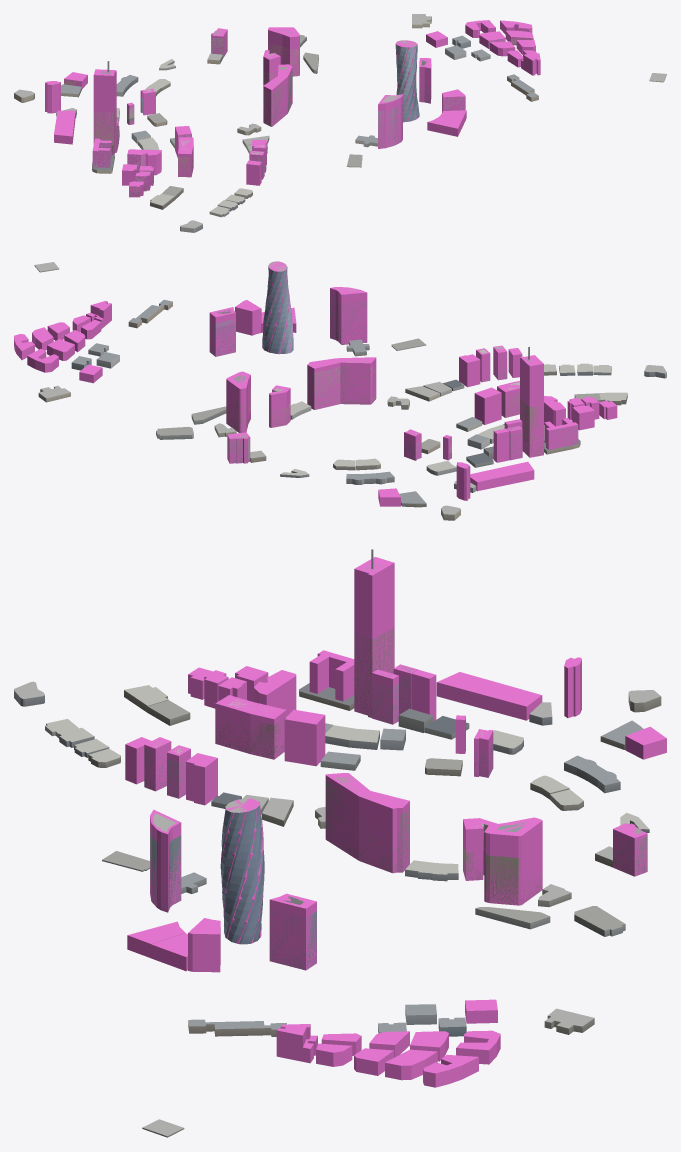
The model's file is bld_13_8.fbx.
3 views of the same model, one above another, from view 1: azimuth 30°, elevation 25°; view 2: azimuth 150°, elevation 25°; view 3: azimuth 270°, elevation 25° (orthographic). The views are drawn at different scales.
Parts seen in each view (by area): view 1: bld_13_8_COL, bld_13_8_LOD0; view 2: bld_13_8_COL, bld_13_8_LOD0; view 3: bld_13_8_COL, bld_13_8_LOD0.
Boxes of the visible parts, bbox=[...] form: bld_13_8_COL: bbox=[45, 20, 540, 197]; bld_13_8_LOD0: bbox=[14, 14, 666, 232]; bld_13_8_COL: bbox=[14, 261, 617, 506]; bld_13_8_LOD0: bbox=[34, 261, 666, 520]; bld_13_8_COL: bbox=[125, 557, 666, 1087]; bld_13_8_LOD0: bbox=[14, 549, 661, 1137].
Size of what is drawn, in the model's own units: 2042 by 340 by 1246.
